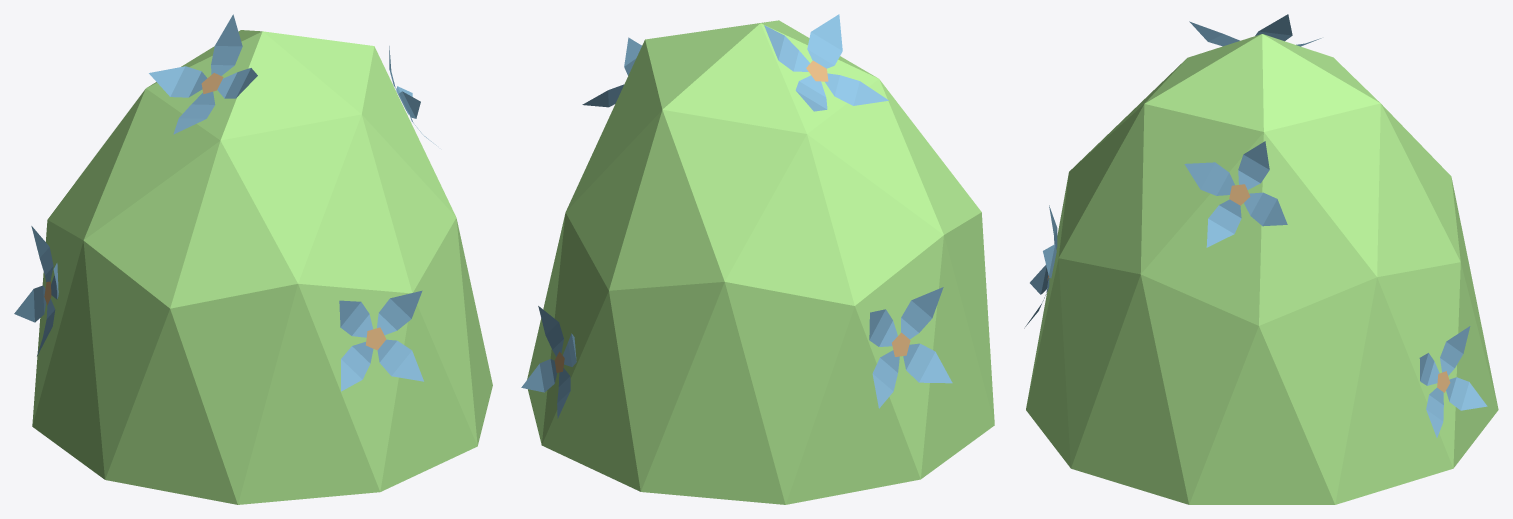
Rendered from FlowerBush_h_m_04.fbx.
The picture shows the model from 3 angles, left to right: view 1: azimuth 30°, elevation 25°; view 2: azimuth 150°, elevation 25°; view 3: azimuth 270°, elevation 25°; orthographic projection.
Parts seen in each view (by area): view 1: FlowerBush_h_m_04; view 2: FlowerBush_h_m_04; view 3: FlowerBush_h_m_04.
Boxes of the visible parts, box(x1,y1,x2,y2) form: FlowerBush_h_m_04: box(14, 14, 492, 504); FlowerBush_h_m_04: box(521, 14, 994, 504); FlowerBush_h_m_04: box(1024, 14, 1498, 504).
Size of the model in its own units: 121 by 112 by 124.
